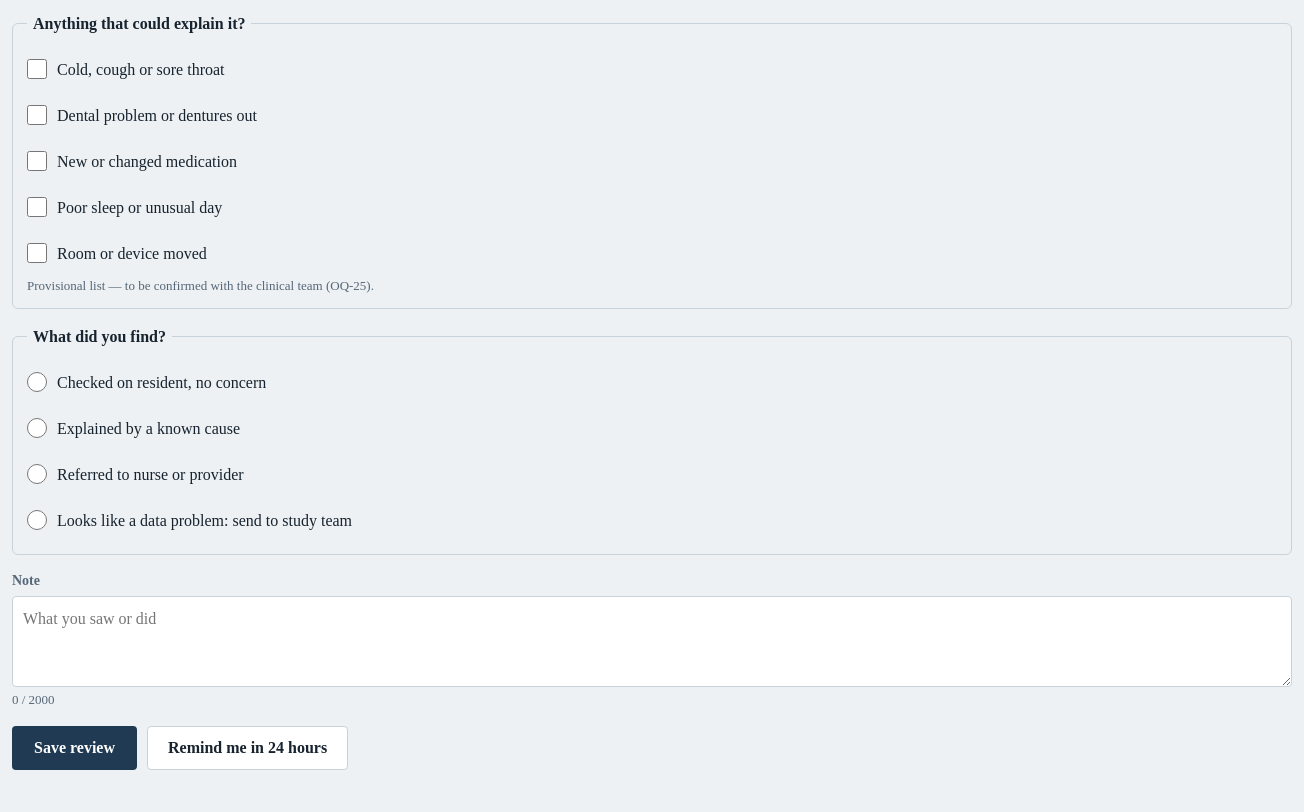
Test case: AlertReviewForm › shows "Choose what you found." without a choice, focuses the first radio and sends nothing
The width and height of the screenshot is (1304, 812).
What coordinates should you click on to do the following:
click the button "Save review"
I would click on:
 (74, 748)
Its box is [12,726,137,770].
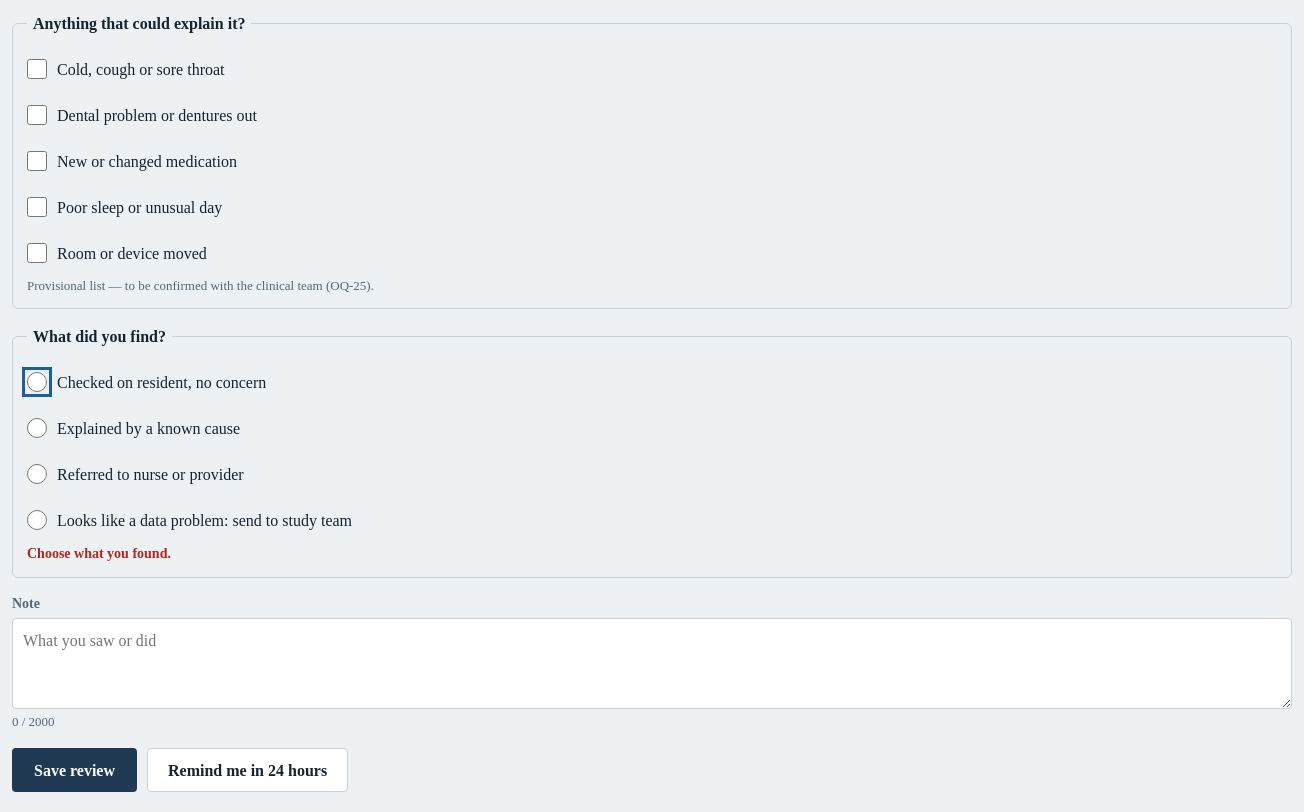
Check: the text "Choose what you found." is shown, box [27,546,171,561]
What coordinates should you click on to do the following:
click the radio button labelled "Checked on resident, no concern"
I would click on:
 (37, 382)
Its box is [27,372,47,392].
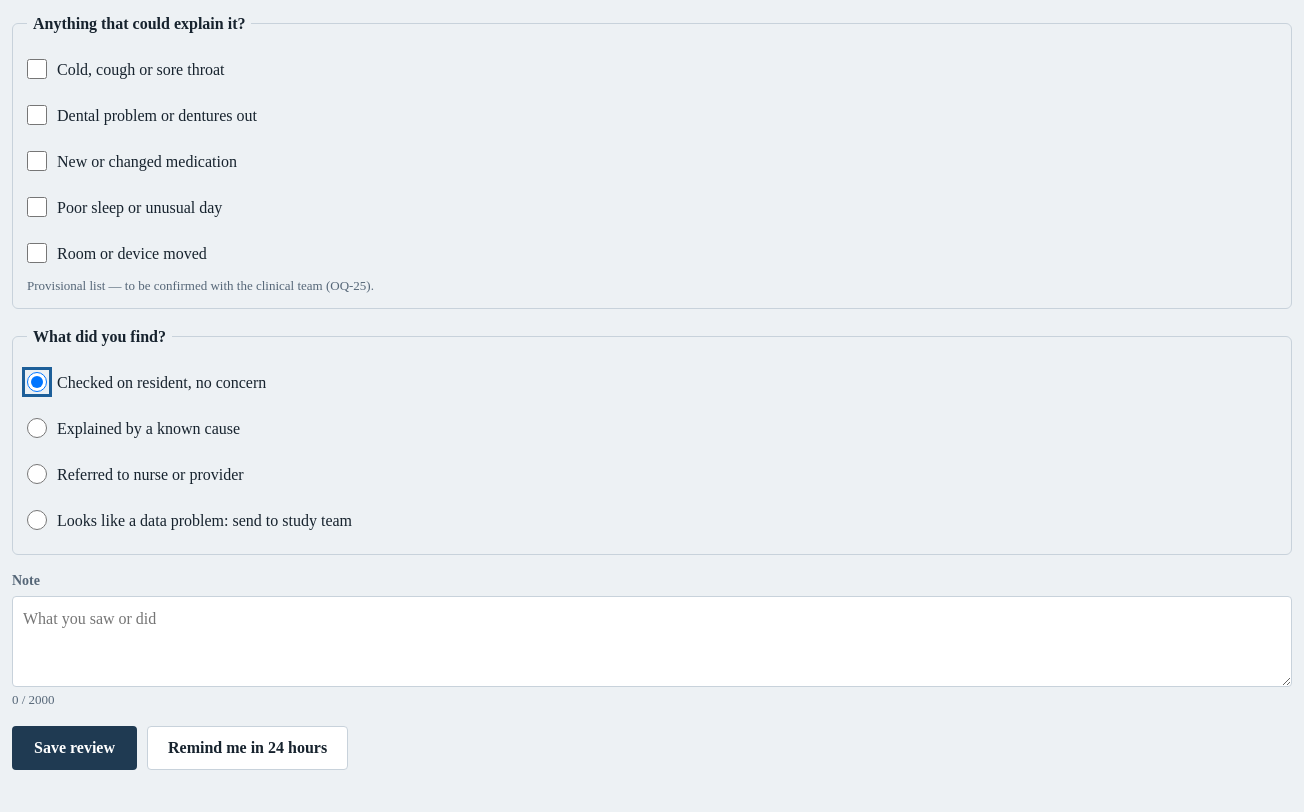
Check: the text "Choose what you found." is gone
